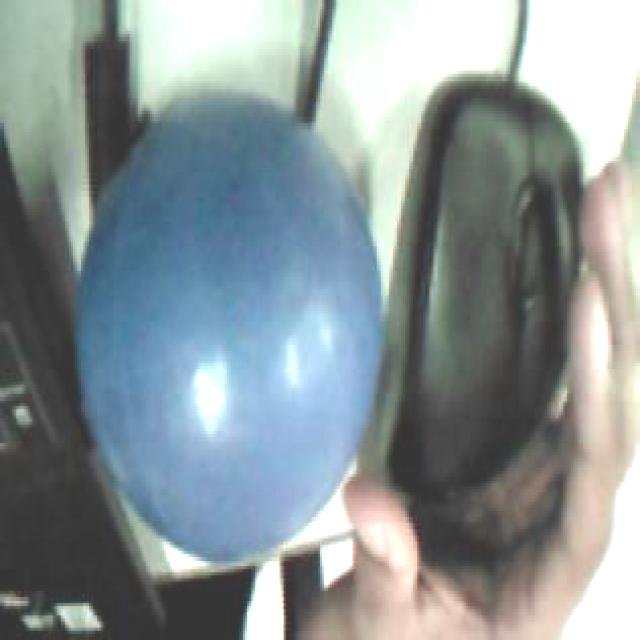BallPurple: (77, 89, 380, 560)
